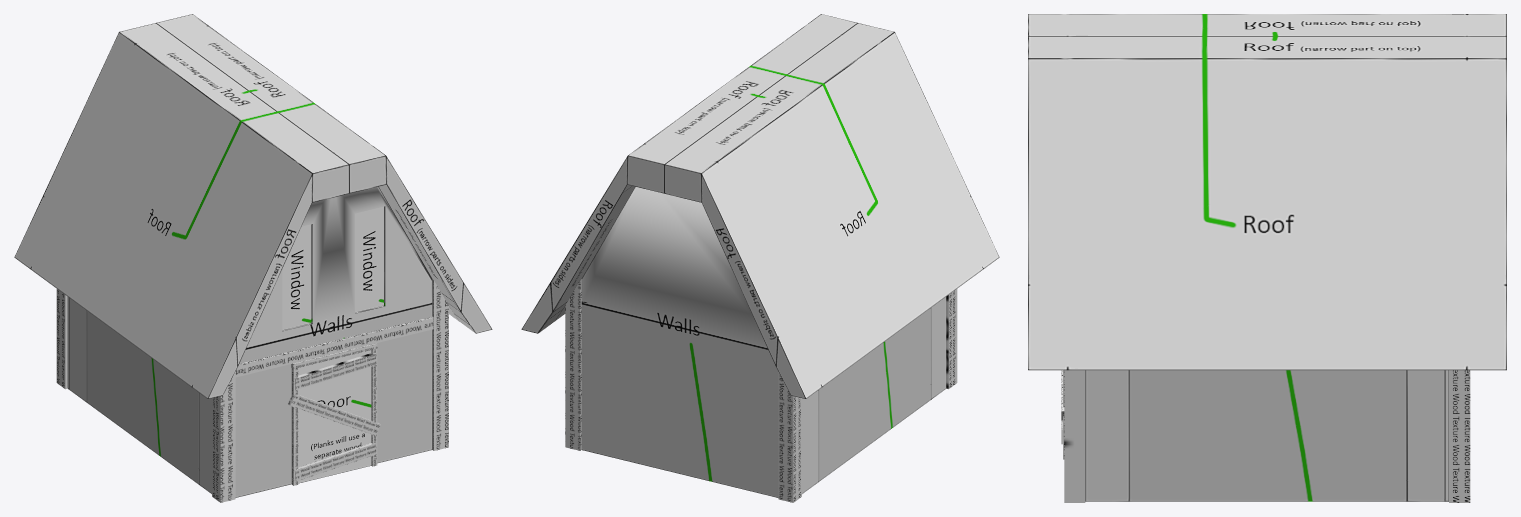
Rendered from House_03.fbx.
3 renders of one model, left to right at view 1: azimuth 30°, elevation 25°; view 2: azimuth 150°, elevation 25°; view 3: azimuth 270°, elevation 25°, orthographic. The views are drawn at different scales.
Visible parts, largest first — view 1: House_03; view 2: House_03; view 3: House_03.
Part boxes in pixels (<box>): House_03: <box>14,14,492,502</box>; House_03: <box>521,14,999,502</box>; House_03: <box>1028,14,1506,502</box>.
Bounding box in the file's own units: 510 × 550 × 600.
2 materials, 2 textured.
